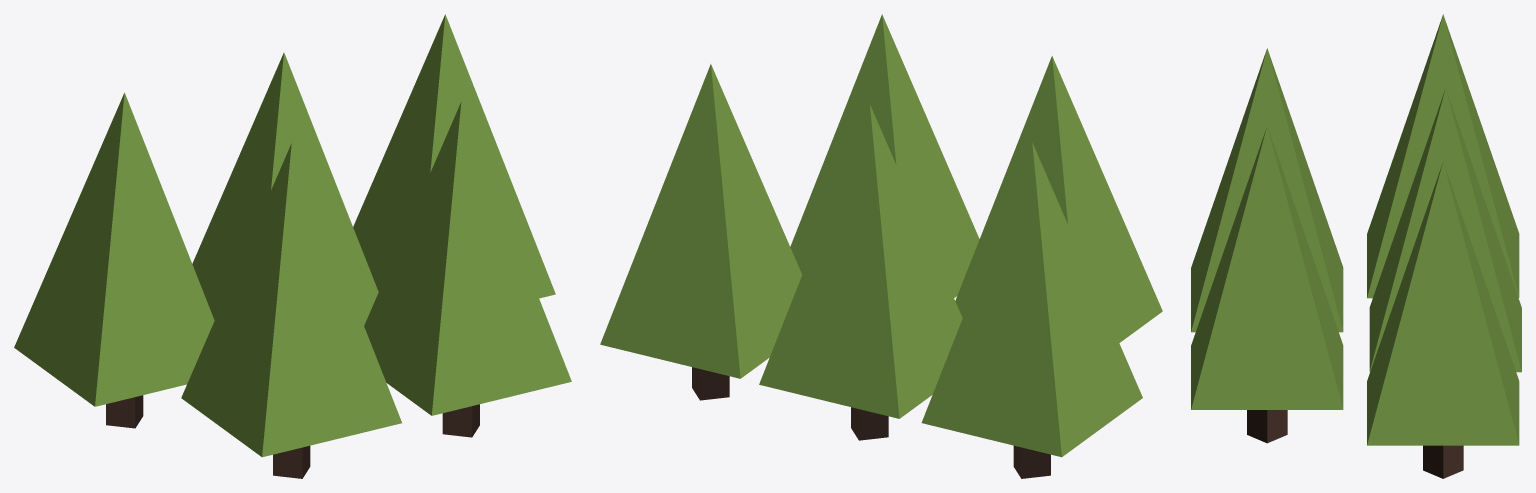
Rendered from TB_Env_Tree_C_Large.FBX.
3 renders of one model, left to right at view 1: azimuth 30°, elevation 25°; view 2: azimuth 150°, elevation 25°; view 3: azimuth 270°, elevation 25°, orthographic. The views are drawn at different scales.
Visible parts, largest first — view 1: TB_Env_Tree_C_Large; view 2: TB_Env_Tree_C_Large; view 3: TB_Env_Tree_C_Large.
Boxes of the visible parts, x1,y1,x2,y2 form: TB_Env_Tree_C_Large: (14,14,571,478); TB_Env_Tree_C_Large: (600,14,1162,478); TB_Env_Tree_C_Large: (1191,14,1521,478).
Bounding box in the file's own units: 8.88 × 6.04 × 5.86.
